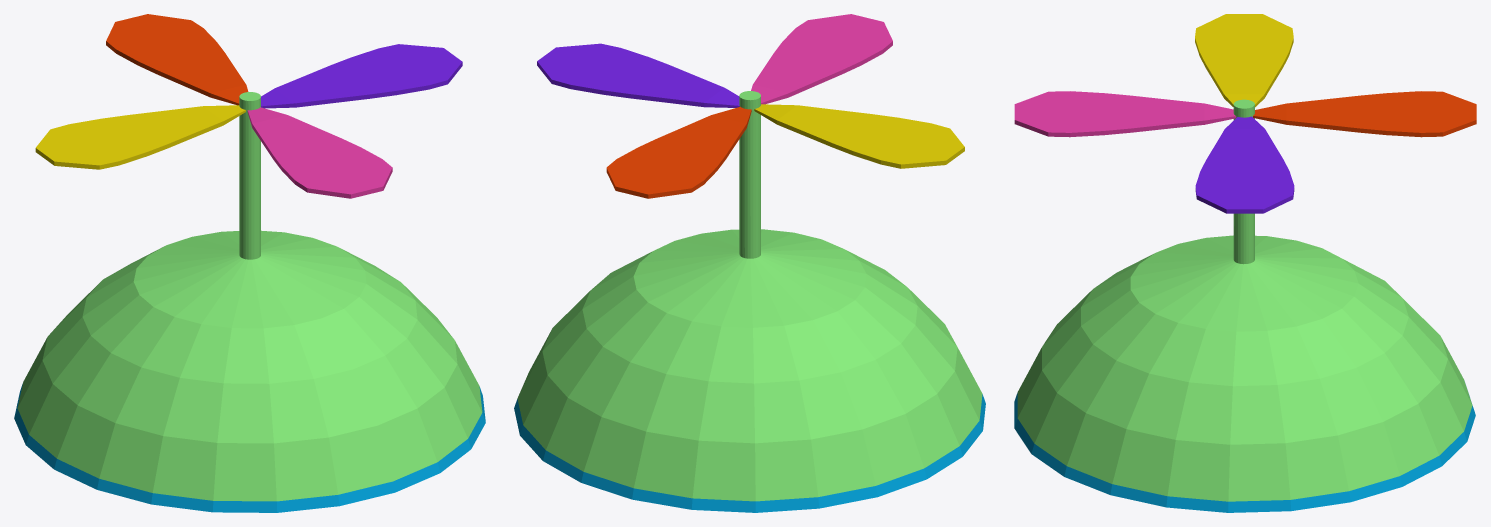
File: kapaASS.fbx
3 renders of one model, left to right at view 1: azimuth 30°, elevation 25°; view 2: azimuth 150°, elevation 25°; view 3: azimuth 270°, elevation 25°, orthographic. The views are drawn at different scales.
Visible parts, largest first — view 1: Sphere.007, Plane, Plane.002, Plane.003, Plane.001; view 2: Sphere.007, Plane, Plane.002, Plane.001, Plane.003; view 3: Sphere.007, Plane.001, Plane.003, Plane.002, Plane.
Part boxes in pixels (bbox=[...]): Sphere.007: bbox=[14, 92, 485, 512]; Plane: bbox=[35, 105, 245, 169]; Plane.002: bbox=[261, 44, 462, 108]; Plane.003: bbox=[247, 107, 392, 198]; Plane.001: bbox=[106, 14, 248, 105]; Sphere.007: bbox=[514, 91, 985, 512]; Plane: bbox=[754, 104, 964, 168]; Plane.002: bbox=[537, 43, 739, 107]; Plane.001: bbox=[606, 106, 751, 198]; Plane.003: bbox=[751, 14, 892, 104]; Sphere.007: bbox=[1014, 99, 1475, 512]; Plane.001: bbox=[1253, 91, 1476, 137]; Plane.003: bbox=[1014, 91, 1236, 137]; Plane.002: bbox=[1195, 116, 1294, 213]; Plane: bbox=[1195, 14, 1293, 107].
Bounding box in the file's own units: 106 × 78.58 × 106.
